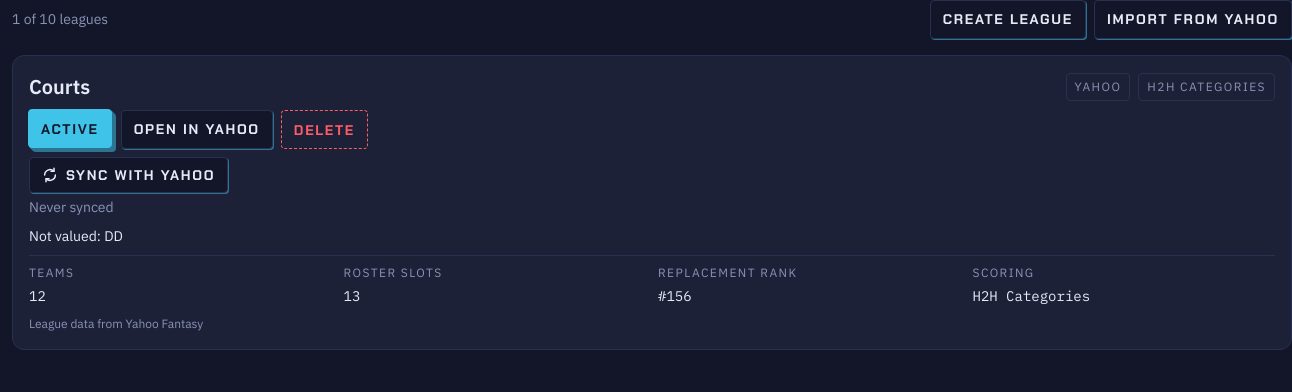
Scenario: LeagueList › never syncs an extension league on the server
Click the button with aria-label "Sync with Yahoo: Courts" at (129, 175), box [29, 157, 228, 193]
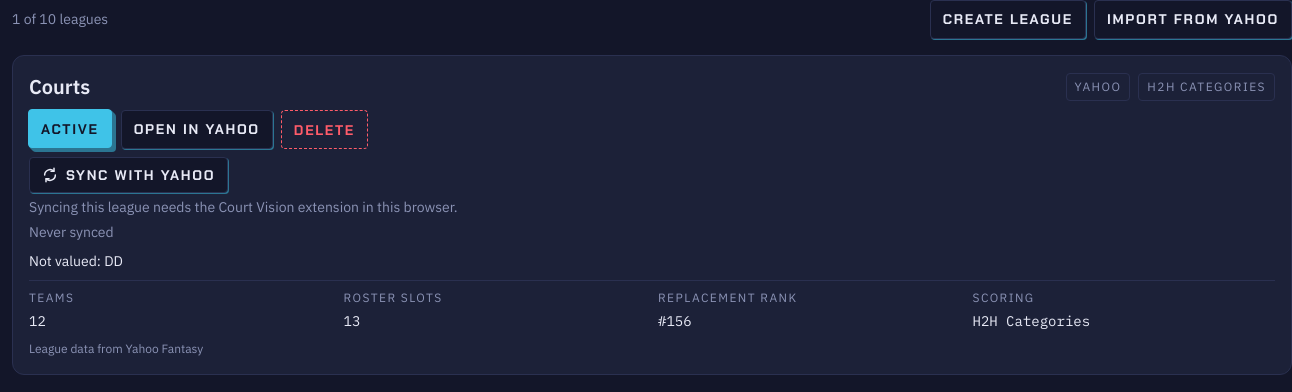
Expected: the message reads "Syncing this league needs the Court Vision extension in this browser.", [29, 198, 458, 216]
